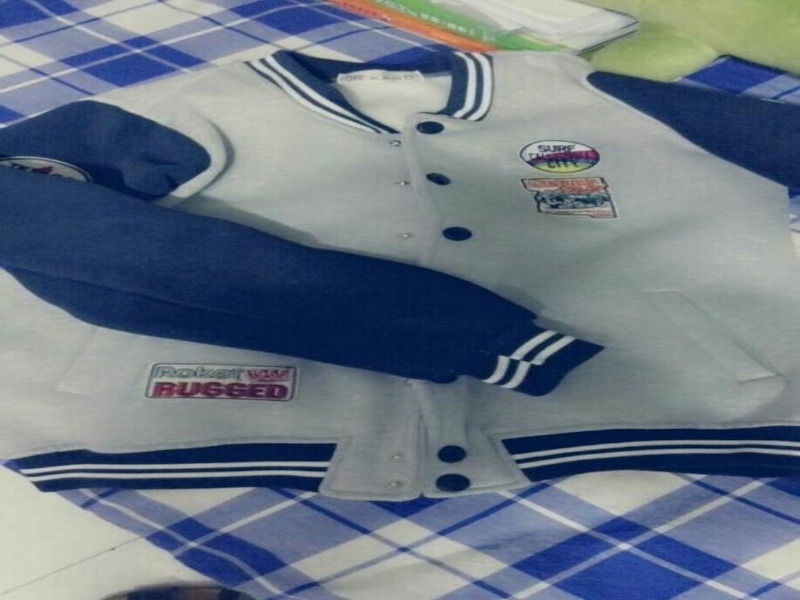long_sleeved_outwear: (2, 39, 797, 503)
